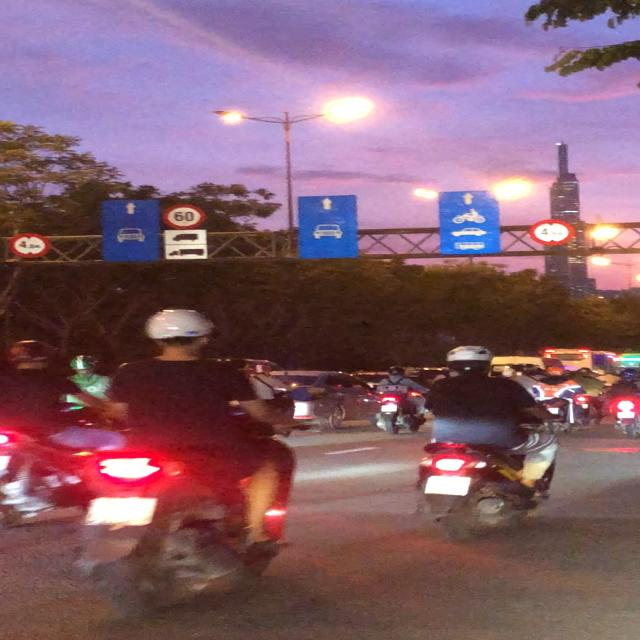Bien bao han che chieu cao: (11, 228, 67, 262), (526, 214, 578, 249)
Bien bao toc do toi da cho phep: (156, 202, 217, 232)
